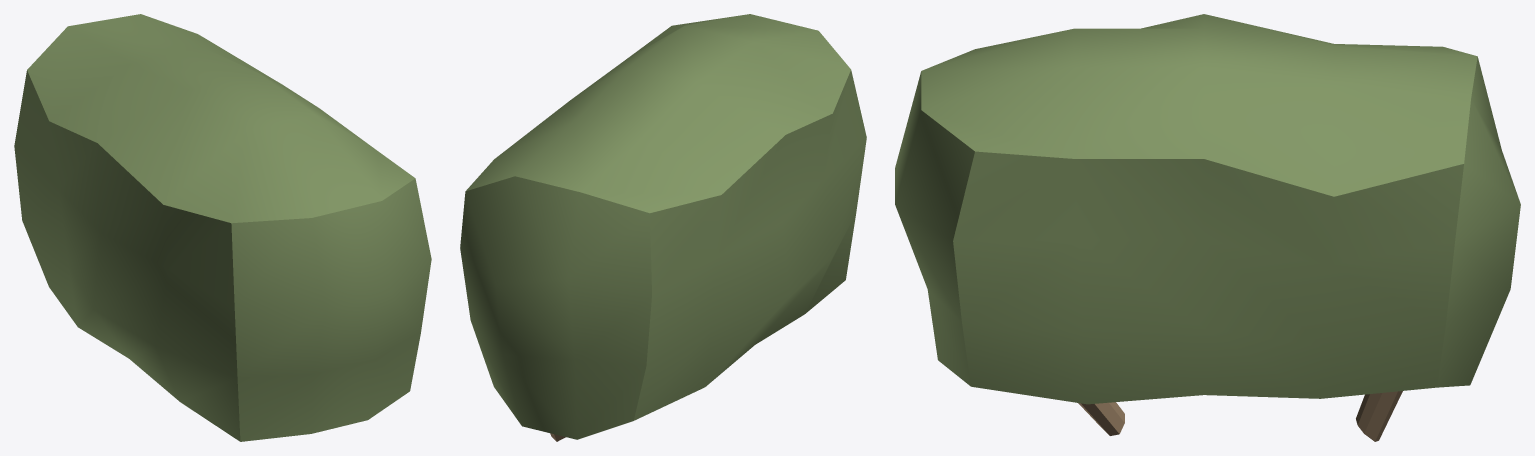
File: hedge01.fbx
3 views of the same model, side by side, from view 1: azimuth 30°, elevation 25°; view 2: azimuth 150°, elevation 25°; view 3: azimuth 270°, elevation 25° (orthographic). The views are drawn at different scales.
Parts seen in each view (by area): view 1: hedgeLeaves; view 2: hedgeLeaves; view 3: hedgeLeaves, hedgeBranch03, hedgeBranch02.
Part boxes in pixels (left/top/right/bottom): hedgeLeaves: left=14, top=14, right=431, bottom=441; hedgeLeaves: left=460, top=14, right=866, bottom=439; hedgeLeaves: left=895, top=14, right=1520, bottom=404; hedgeBranch03: left=1356, top=391, right=1402, bottom=441; hedgeBranch02: left=1078, top=402, right=1124, bottom=435.
Bounding box in the file's own units: 0.6221 × 0.7943 × 1.2.
